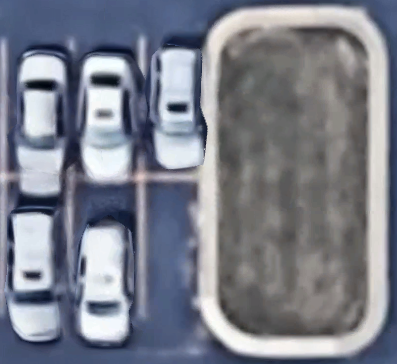Occupied: (71, 176, 141, 315), (71, 38, 140, 176), (4, 176, 71, 316), (4, 38, 71, 177), (140, 38, 202, 178)
Vacant: (142, 177, 203, 314)
